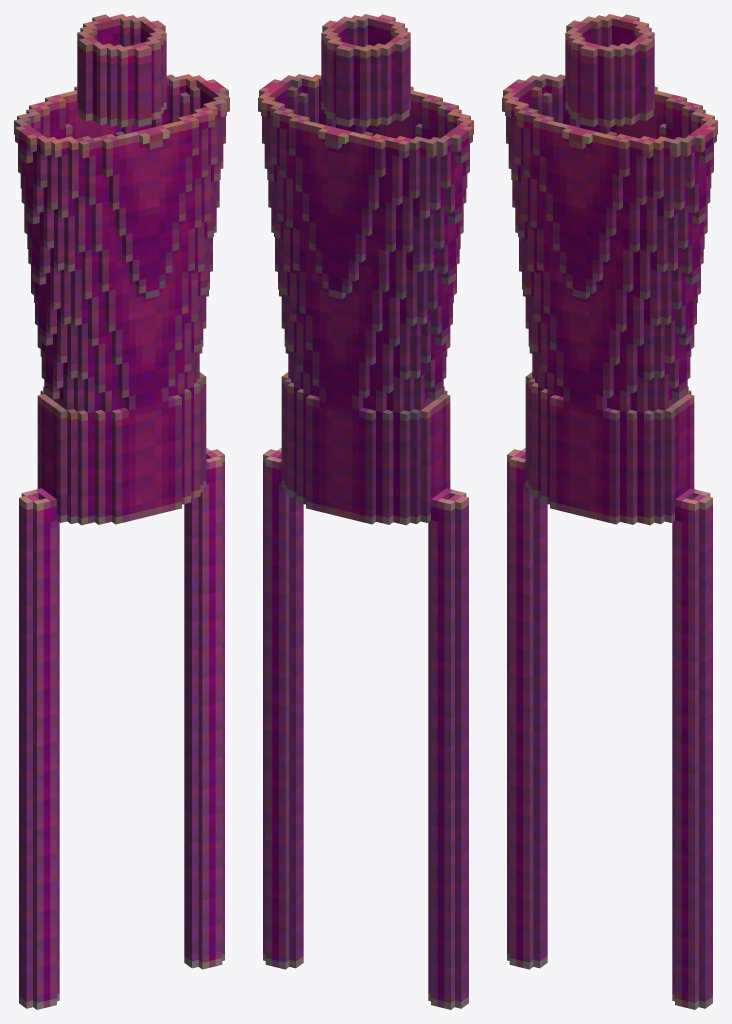
Rendered from gothic_arming_mannequin.glb.
3 renders of one model, left to right at view 1: azimuth 30°, elevation 25°; view 2: azimuth 150°, elevation 25°; view 3: azimuth 330°, elevation 25°, orthographic.
Parts seen in each view (by area): view 1: GothicArmingMannequin; view 2: GothicArmingMannequin; view 3: GothicArmingMannequin.
Part boxes in pixels (bbox=[...]): GothicArmingMannequin: bbox=[14, 14, 229, 1009]; GothicArmingMannequin: bbox=[258, 14, 473, 1009]; GothicArmingMannequin: bbox=[502, 14, 717, 1009].
Bounding box in the file's own units: 0.3 × 1.37 × 0.18.
